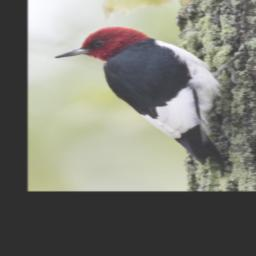Woodpecker: (45, 24, 241, 175)
